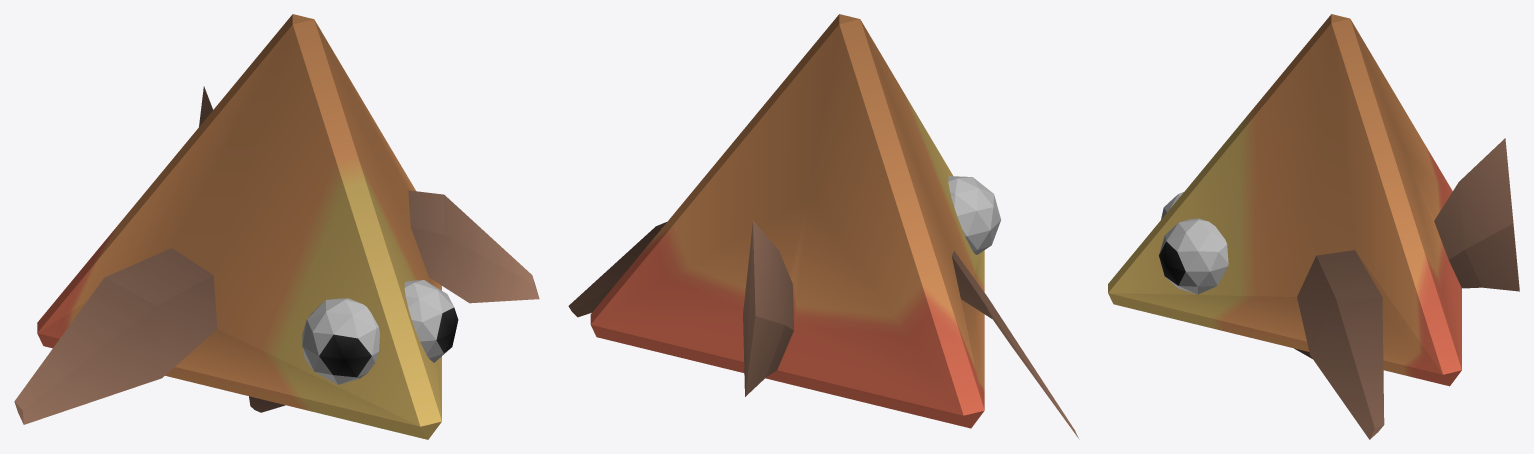
Rendered from tetrahedra.glb.
The picture shows the model from 3 angles, left to right: view 1: azimuth 30°, elevation 25°; view 2: azimuth 150°, elevation 25°; view 3: azimuth 270°, elevation 25°; orthographic projection. The views are drawn at different scales.
Parts seen in each view (by area): view 1: Cone.003, eye.shaded.029, eye.shaded.030; view 2: Cone.003, eye.shaded.029; view 3: Cone.003, eye.shaded.030.
Part boxes in pixels (<box>): Cone.003: <box>14,14,539,439</box>; eye.shaded.029: <box>302,298,379,384</box>; eye.shaded.030: <box>404,280,458,362</box>; Cone.003: <box>568,14,1079,439</box>; eye.shaded.029: <box>948,176,1000,254</box>; Cone.003: <box>1108,14,1519,439</box>; eye.shaded.030: <box>1159,218,1228,294</box>.
Bounding box in the file's own units: 3 × 2.1 × 2.36.
Materials: 3 (3 with a texture image).
